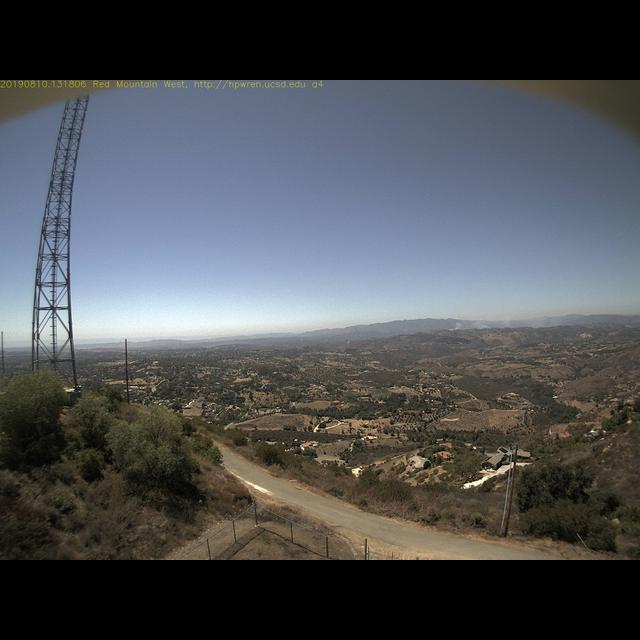Smoke: (447, 308, 565, 331)
